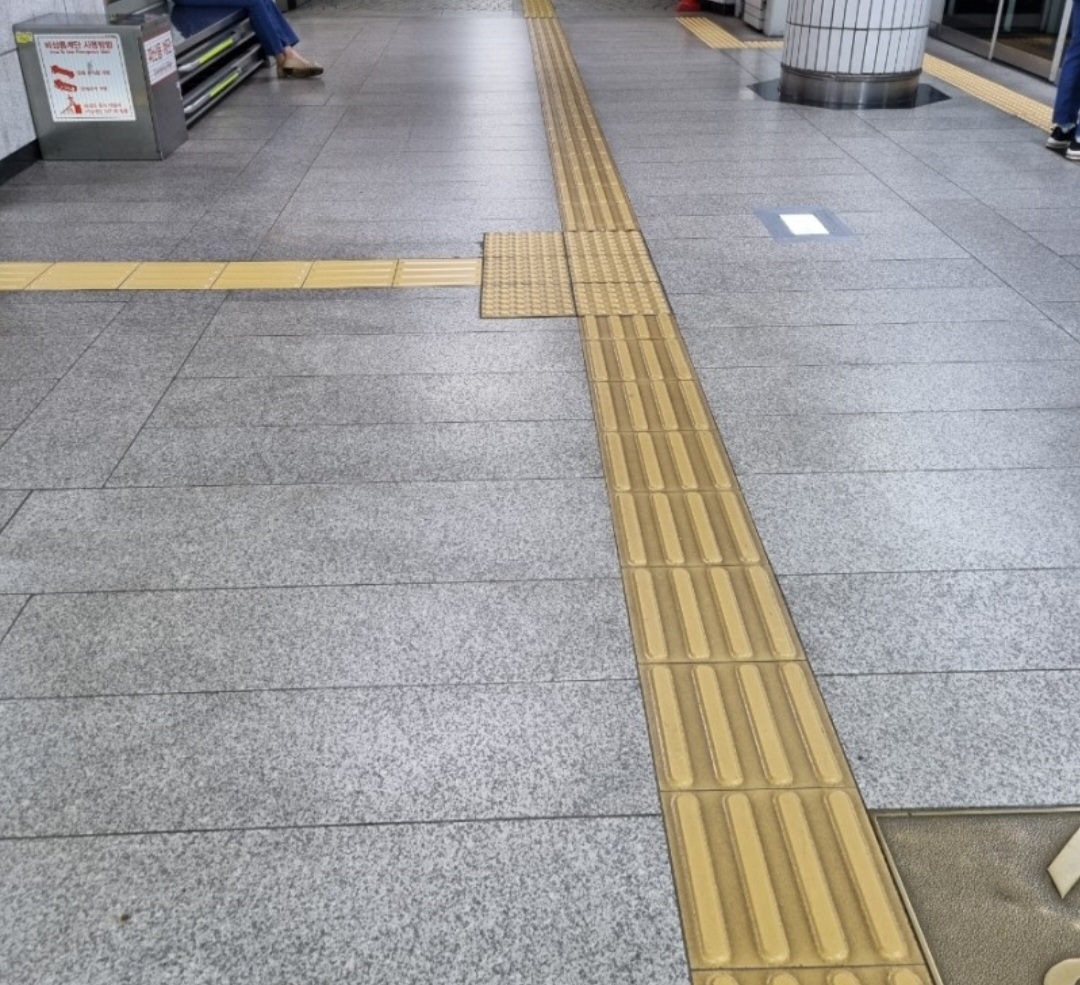guideBlock: (668, 796, 925, 977), (650, 666, 848, 794), (627, 567, 836, 659), (608, 492, 766, 576), (611, 436, 741, 491), (565, 336, 705, 387), (592, 381, 720, 432), (574, 304, 704, 346)
warningBlock: (490, 261, 577, 302), (585, 244, 672, 282), (570, 282, 668, 315), (488, 284, 571, 322), (485, 233, 562, 269), (570, 225, 638, 254)
